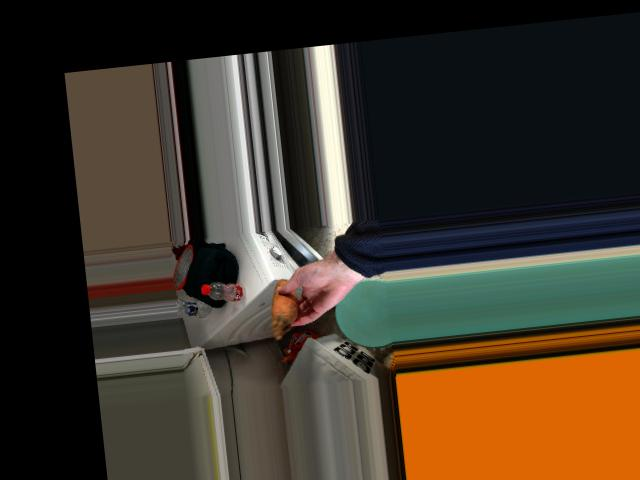sweet_potato: (267, 281, 298, 328)
